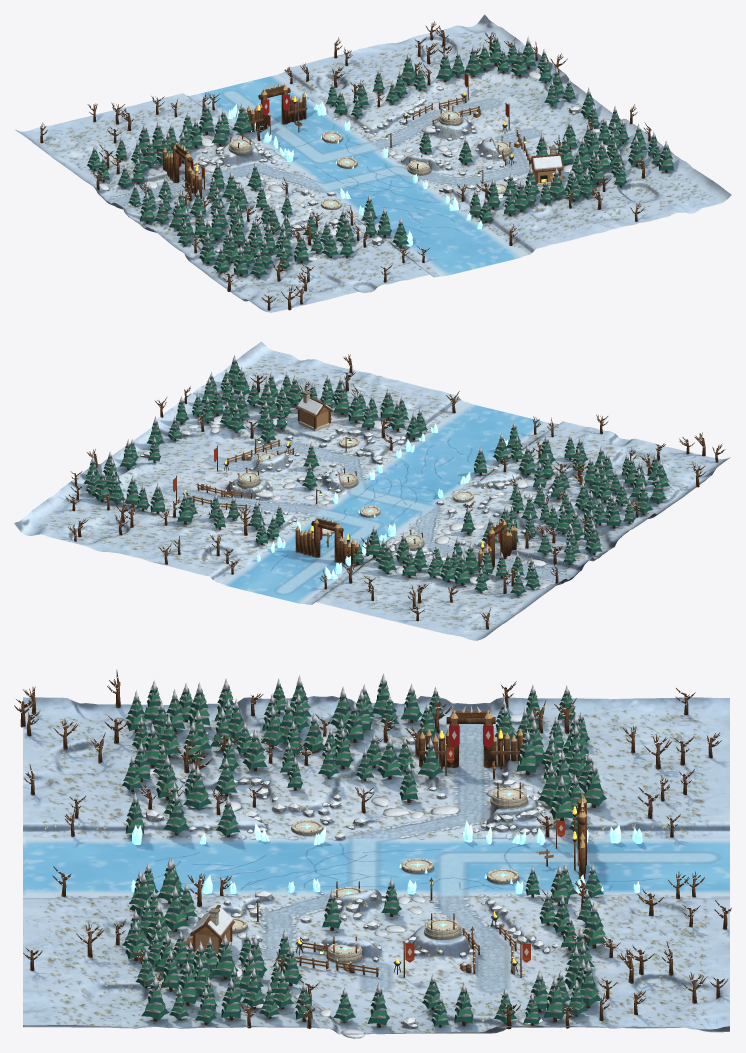
Rendered from battlefield-snow-expanded.glb.
The picture shows the model from 3 angles, top to bottom: view 1: azimuth 30°, elevation 25°; view 2: azimuth 150°, elevation 25°; view 3: azimuth 270°, elevation 25°; orthographic projection. The views are drawn at different scales.
Parts seen in each view (by area): view 1: Terrain / snow / rt, Ice sheet / frozen river.001, Raider camp gate.001, Raider camp gate, Village forge house; view 2: Terrain / snow / rt, Ice sheet / frozen river.001, Raider camp gate.001, Village forge house, Raider camp gate; view 3: Terrain / snow / rt, Ice sheet / frozen river.001, Raider camp gate, Village forge house, Raider camp gate.001, Build pad 8 / high, Build pad 1 / high, Tree / conifer 4.015, Tree / conifer 3.042, Tree / conifer 4.068, Build pad 6 / high, Tree / conifer 1.010 (+1 smaller).
Part boxes in pixels (x1,y1,x2,y2): Terrain / snow / rt: (15,14,731,312); Ice sheet / frozen river.001: (194,74,527,275); Raider camp gate.001: (244,83,307,132); Raider camp gate: (163,142,202,198); Village forge house: (529,146,563,186); Terrain / snow / rt: (14,341,730,640); Ice sheet / frozen river.001: (218,402,551,604); Raider camp gate.001: (295,516,359,565); Village forge house: (296,390,332,431); Raider camp gate: (478,519,516,571); Terrain / snow / rt: (23,696,729,1034); Ice sheet / frozen river.001: (25,834,729,898); Raider camp gate: (419,705,522,769); Village forge house: (185,905,234,959); Raider camp gate.001: (572,794,586,878); Build pad 8 / high: (424,913,461,939); Build pad 1 / high: (490,782,527,808); Tree / conifer 4.015: (550,775,573,820); Tree / conifer 3.042: (141,975,168,1021); Tree / conifer 4.068: (582,901,606,948); Build pad 6 / high: (326,936,363,963); Tree / conifer 1.010: (164,885,189,931).
Size of the model in its own units: 14.55 by 1.33 by 13.14.
Materials: 30 (16 with a texture image).
